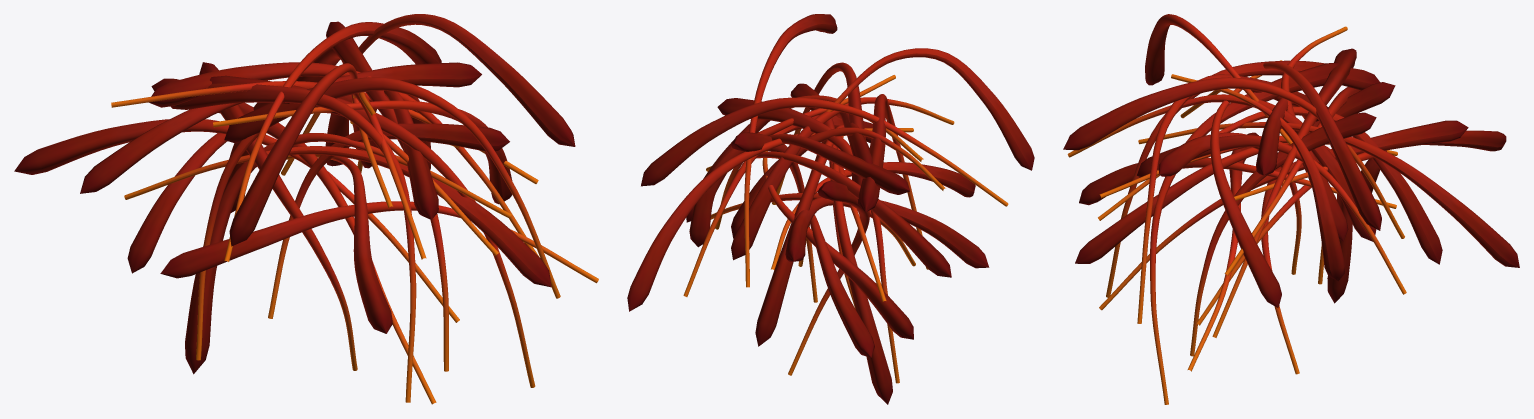
The model's file is saffron-threads.glb.
3 renders of one model, left to right at view 1: azimuth 30°, elevation 25°; view 2: azimuth 150°, elevation 25°; view 3: azimuth 270°, elevation 25°, orthographic. The views are drawn at different scales.
Visible parts, largest first — view 1: saffron-strands; view 2: saffron-strands; view 3: saffron-strands.
Boxes of the visible parts, x1,y1,x2,y2 form: saffron-strands: (14, 14, 598, 404); saffron-strands: (627, 14, 1034, 404); saffron-strands: (1063, 14, 1519, 404).
Size of the model in its own units: 0.0565 by 0.0478 by 0.0624.
Materials: 1 (1 with a texture image).
